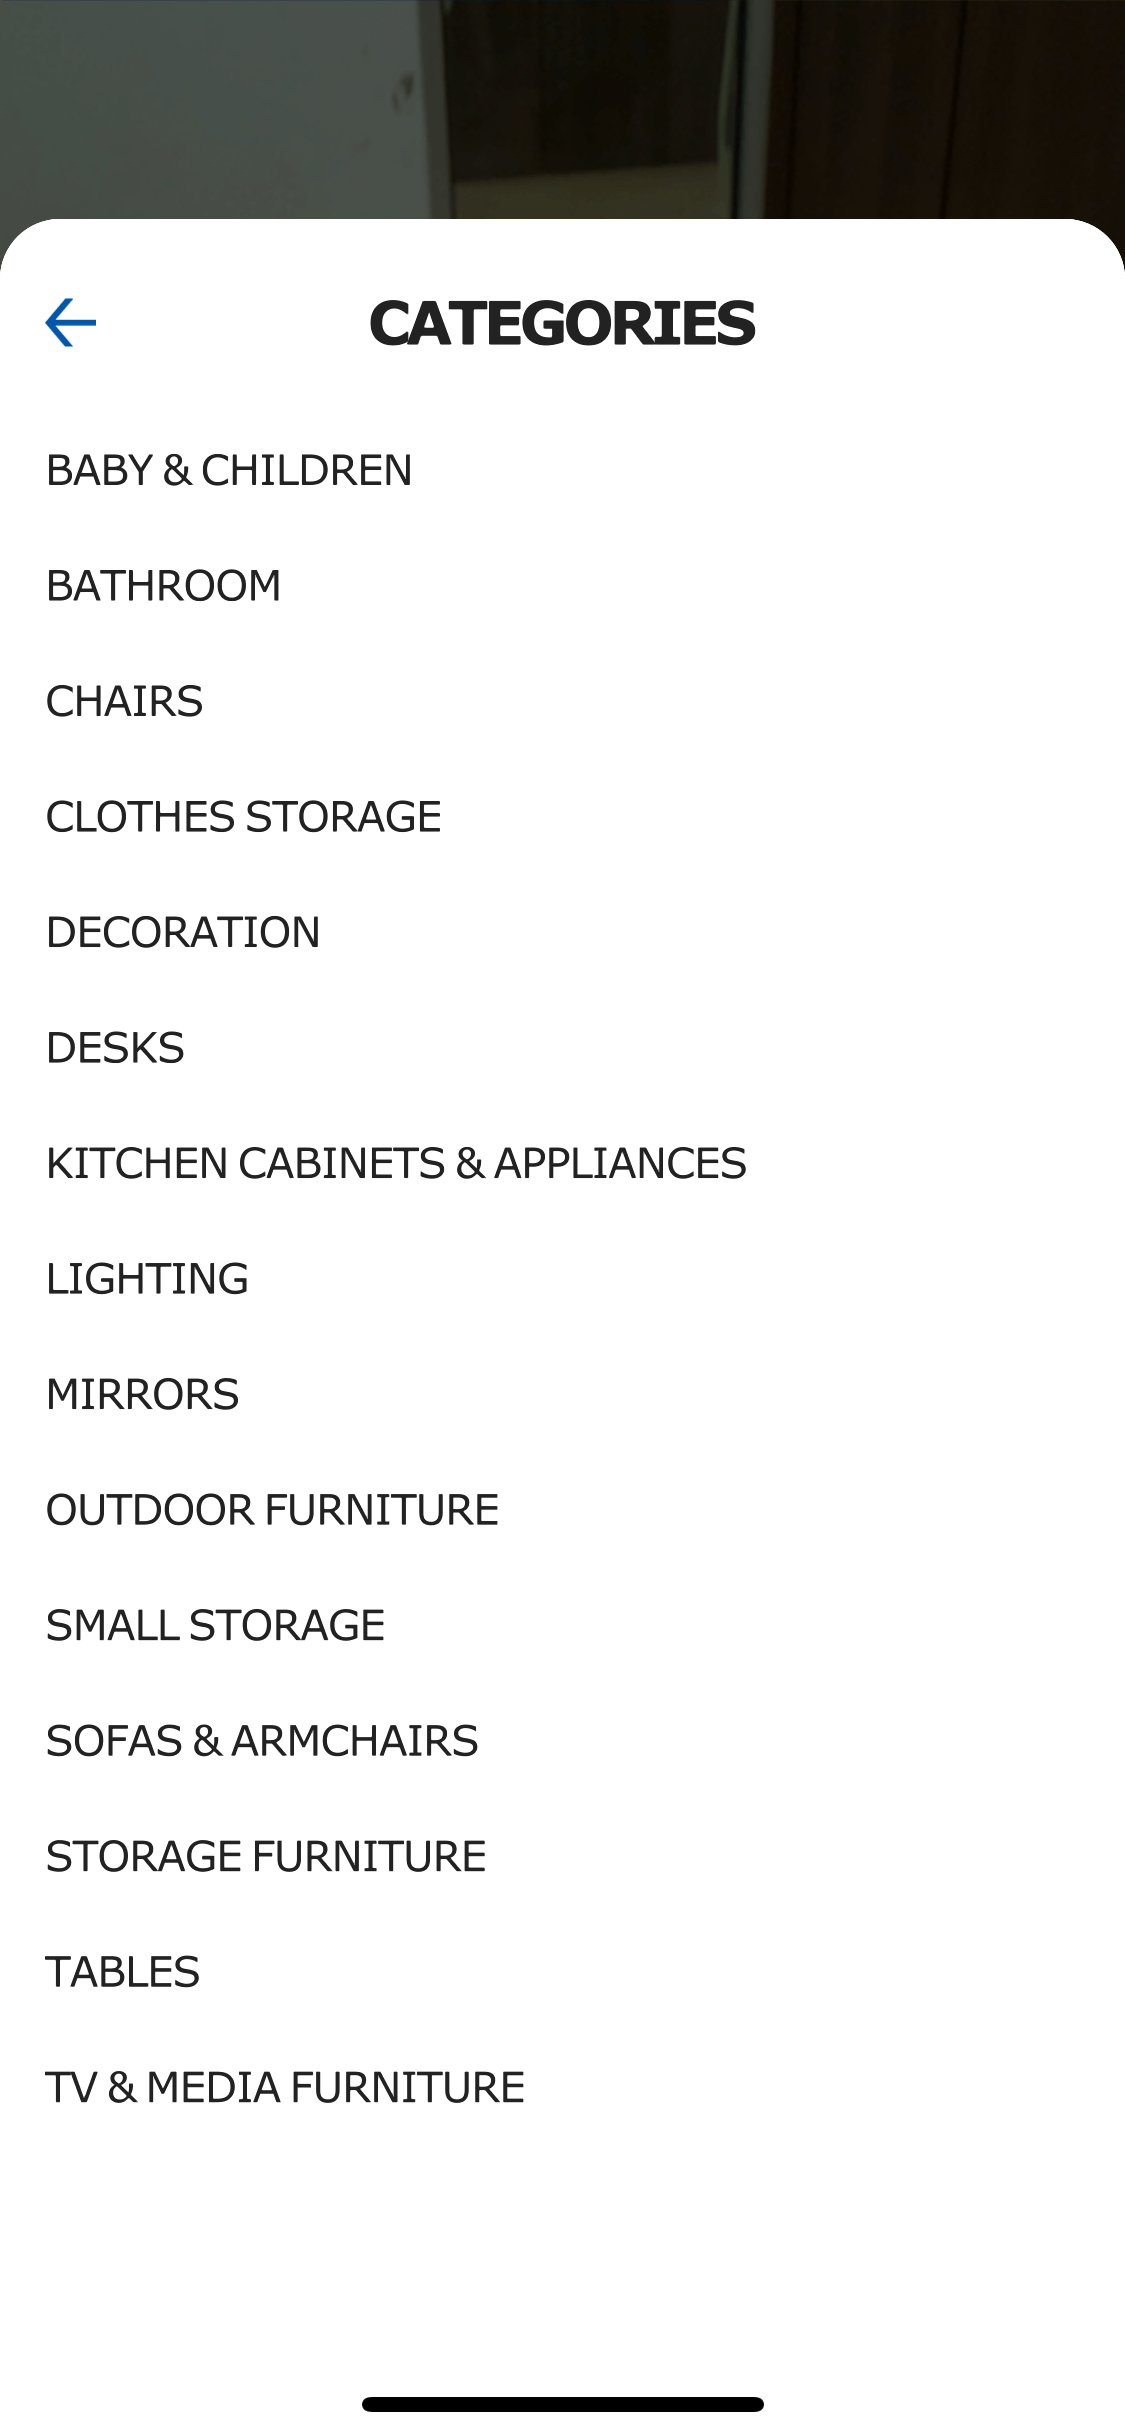Buttons: (8, 256, 143, 382)
